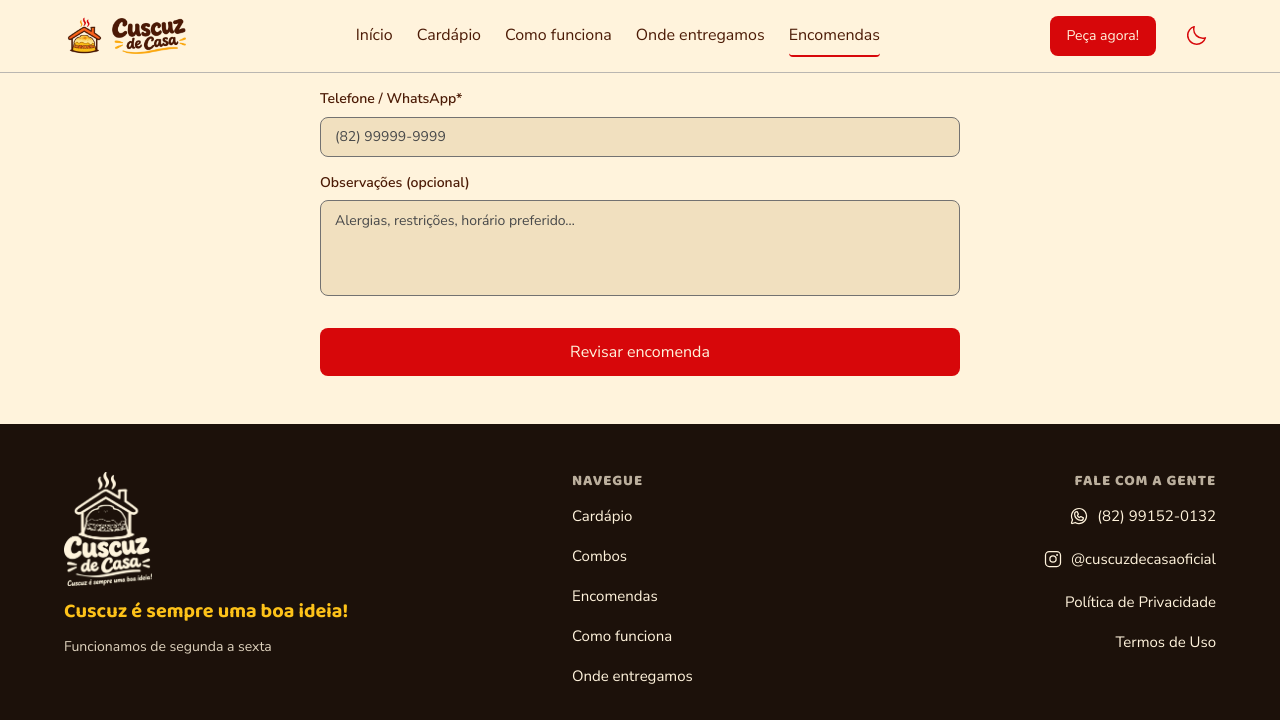
Encomendas › enviar vazio mostra os erros e leva o foco ao primeiro campo com problema
(page scrolled)
Click the button "Revisar encomenda" at coordinates (640, 352), box [320,328,960,376]
(page scrolled)
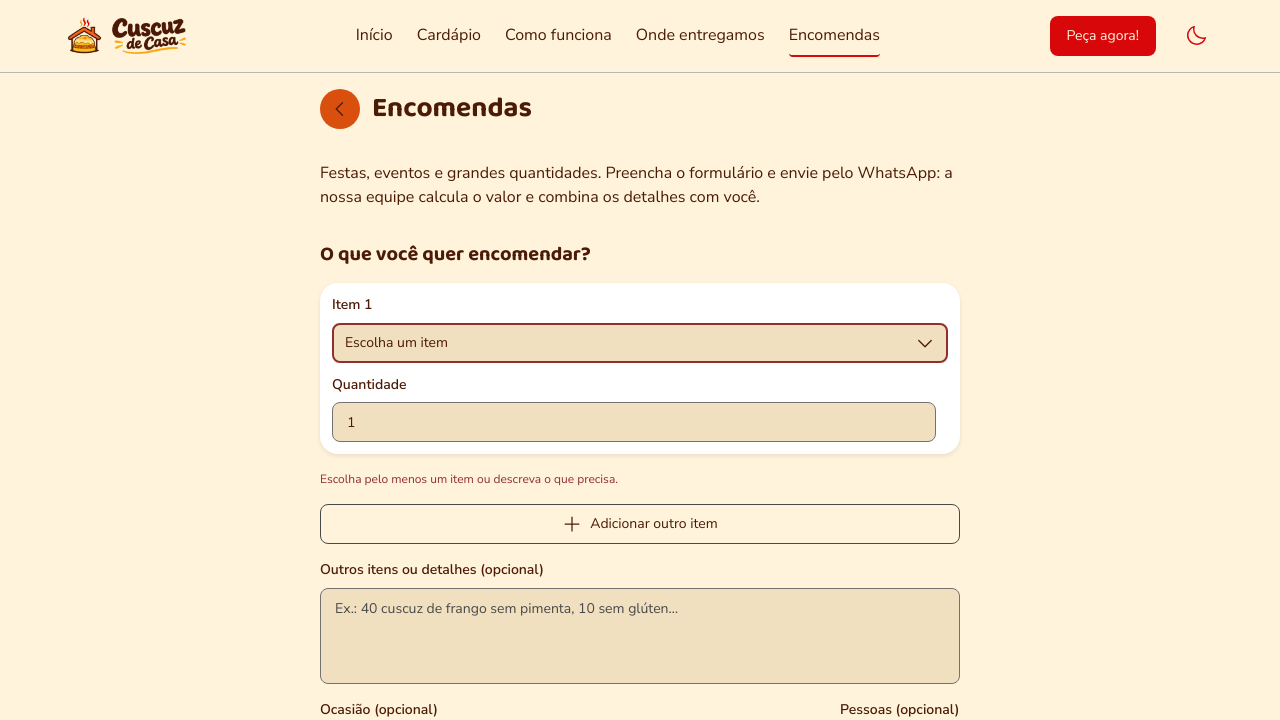
Expected: the message shows "pelo menos um item", [320,471,618,487]
